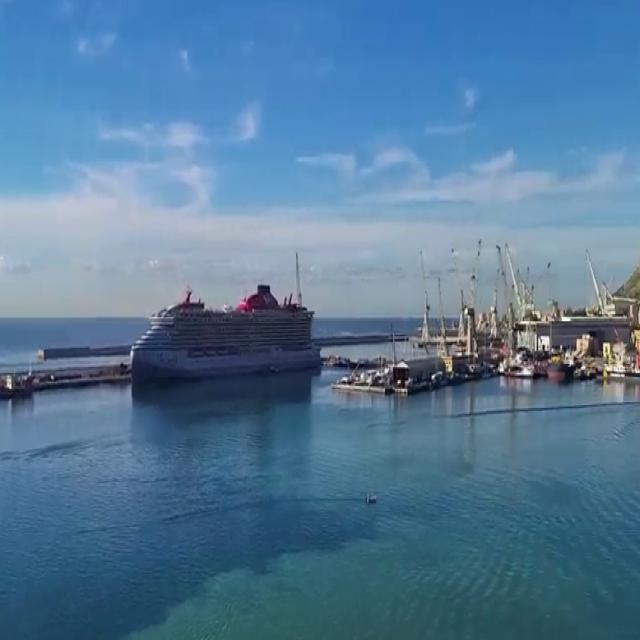passenger ship: (132, 279, 320, 390)
